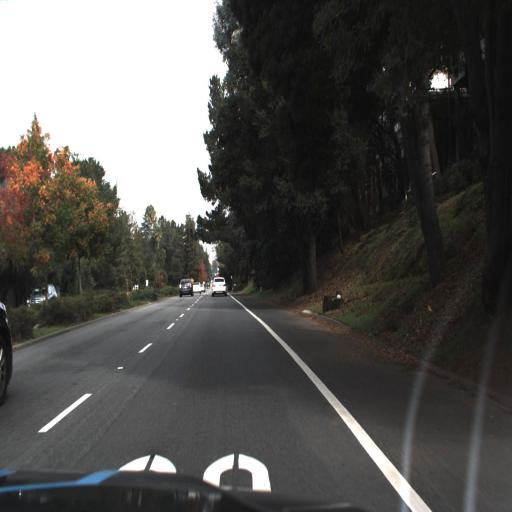car: (0, 250, 13, 415), (205, 271, 230, 300), (179, 274, 197, 301), (193, 276, 204, 293)
